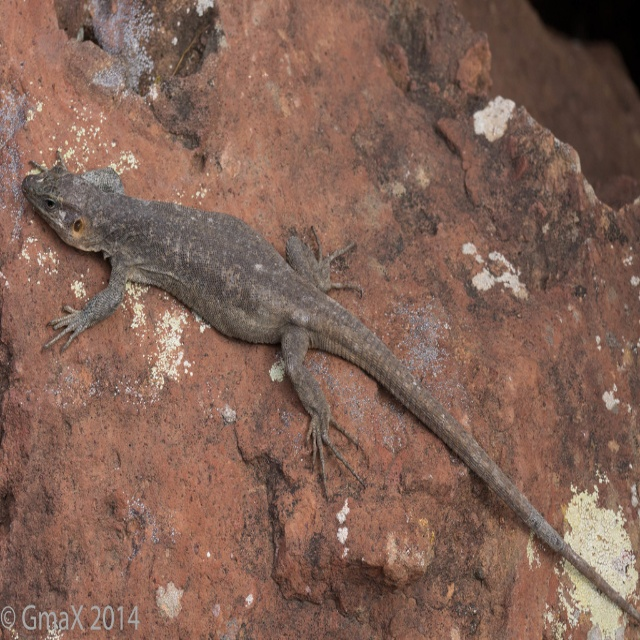Lizard: (51, 161, 607, 618)
